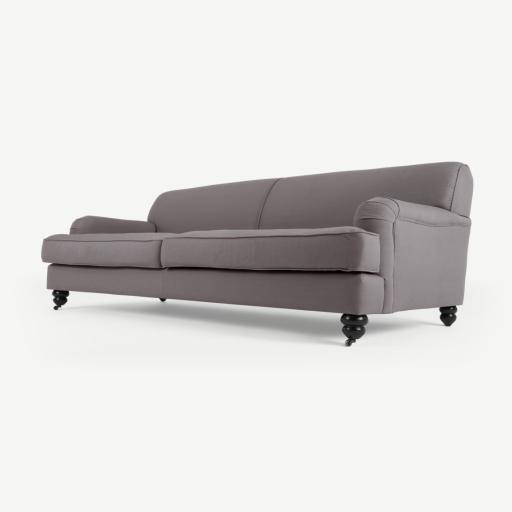back_cushion: (148, 162, 464, 233)
base: (48, 265, 384, 314)
left_arm: (355, 197, 470, 312)
legs: (341, 314, 367, 346), (53, 290, 69, 310), (441, 314, 454, 320)
right_arm: (69, 216, 156, 234)
seat_cushion: (43, 209, 380, 272)
two-seater: (0, 0, 511, 512)
